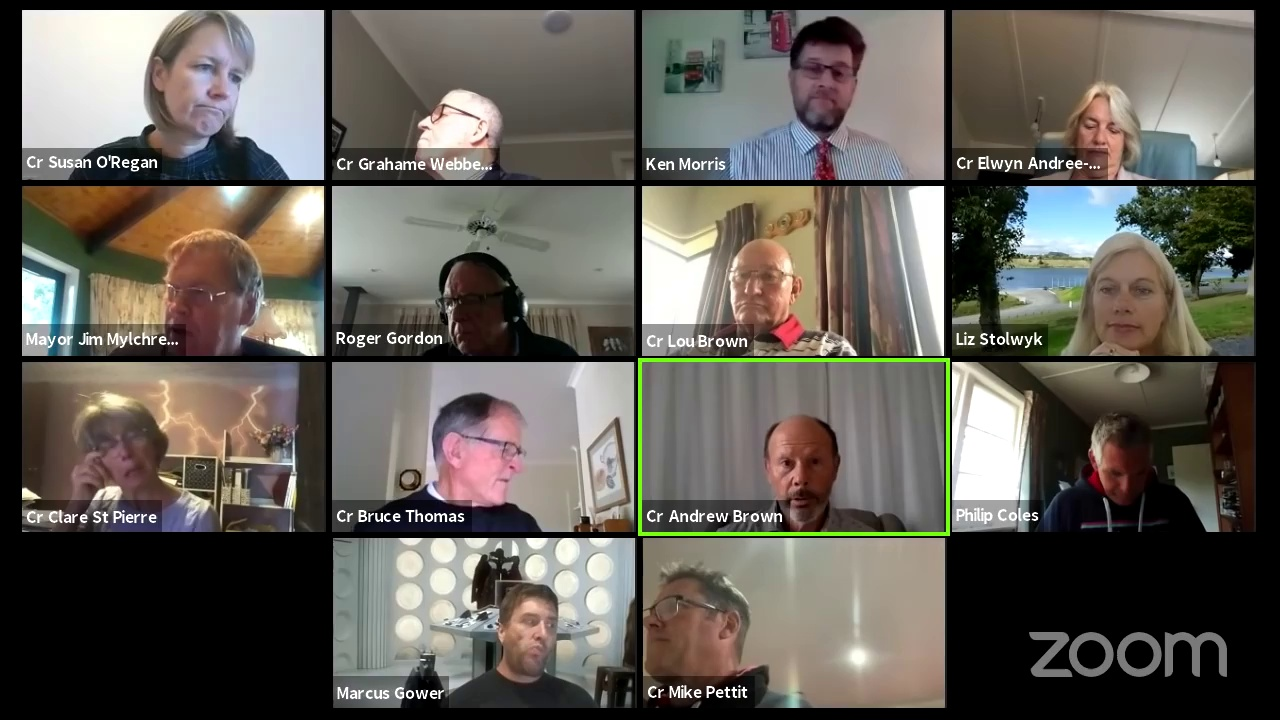Distracted: (652, 571, 744, 683), (435, 400, 530, 503), (165, 247, 245, 350), (433, 262, 520, 353), (77, 414, 170, 491), (1081, 421, 1162, 505), (411, 89, 492, 165), (1066, 92, 1136, 171), (501, 587, 563, 670)
Not Distracted: (152, 16, 243, 139), (1080, 246, 1167, 346), (722, 237, 807, 334), (785, 32, 861, 135), (765, 425, 842, 520)
